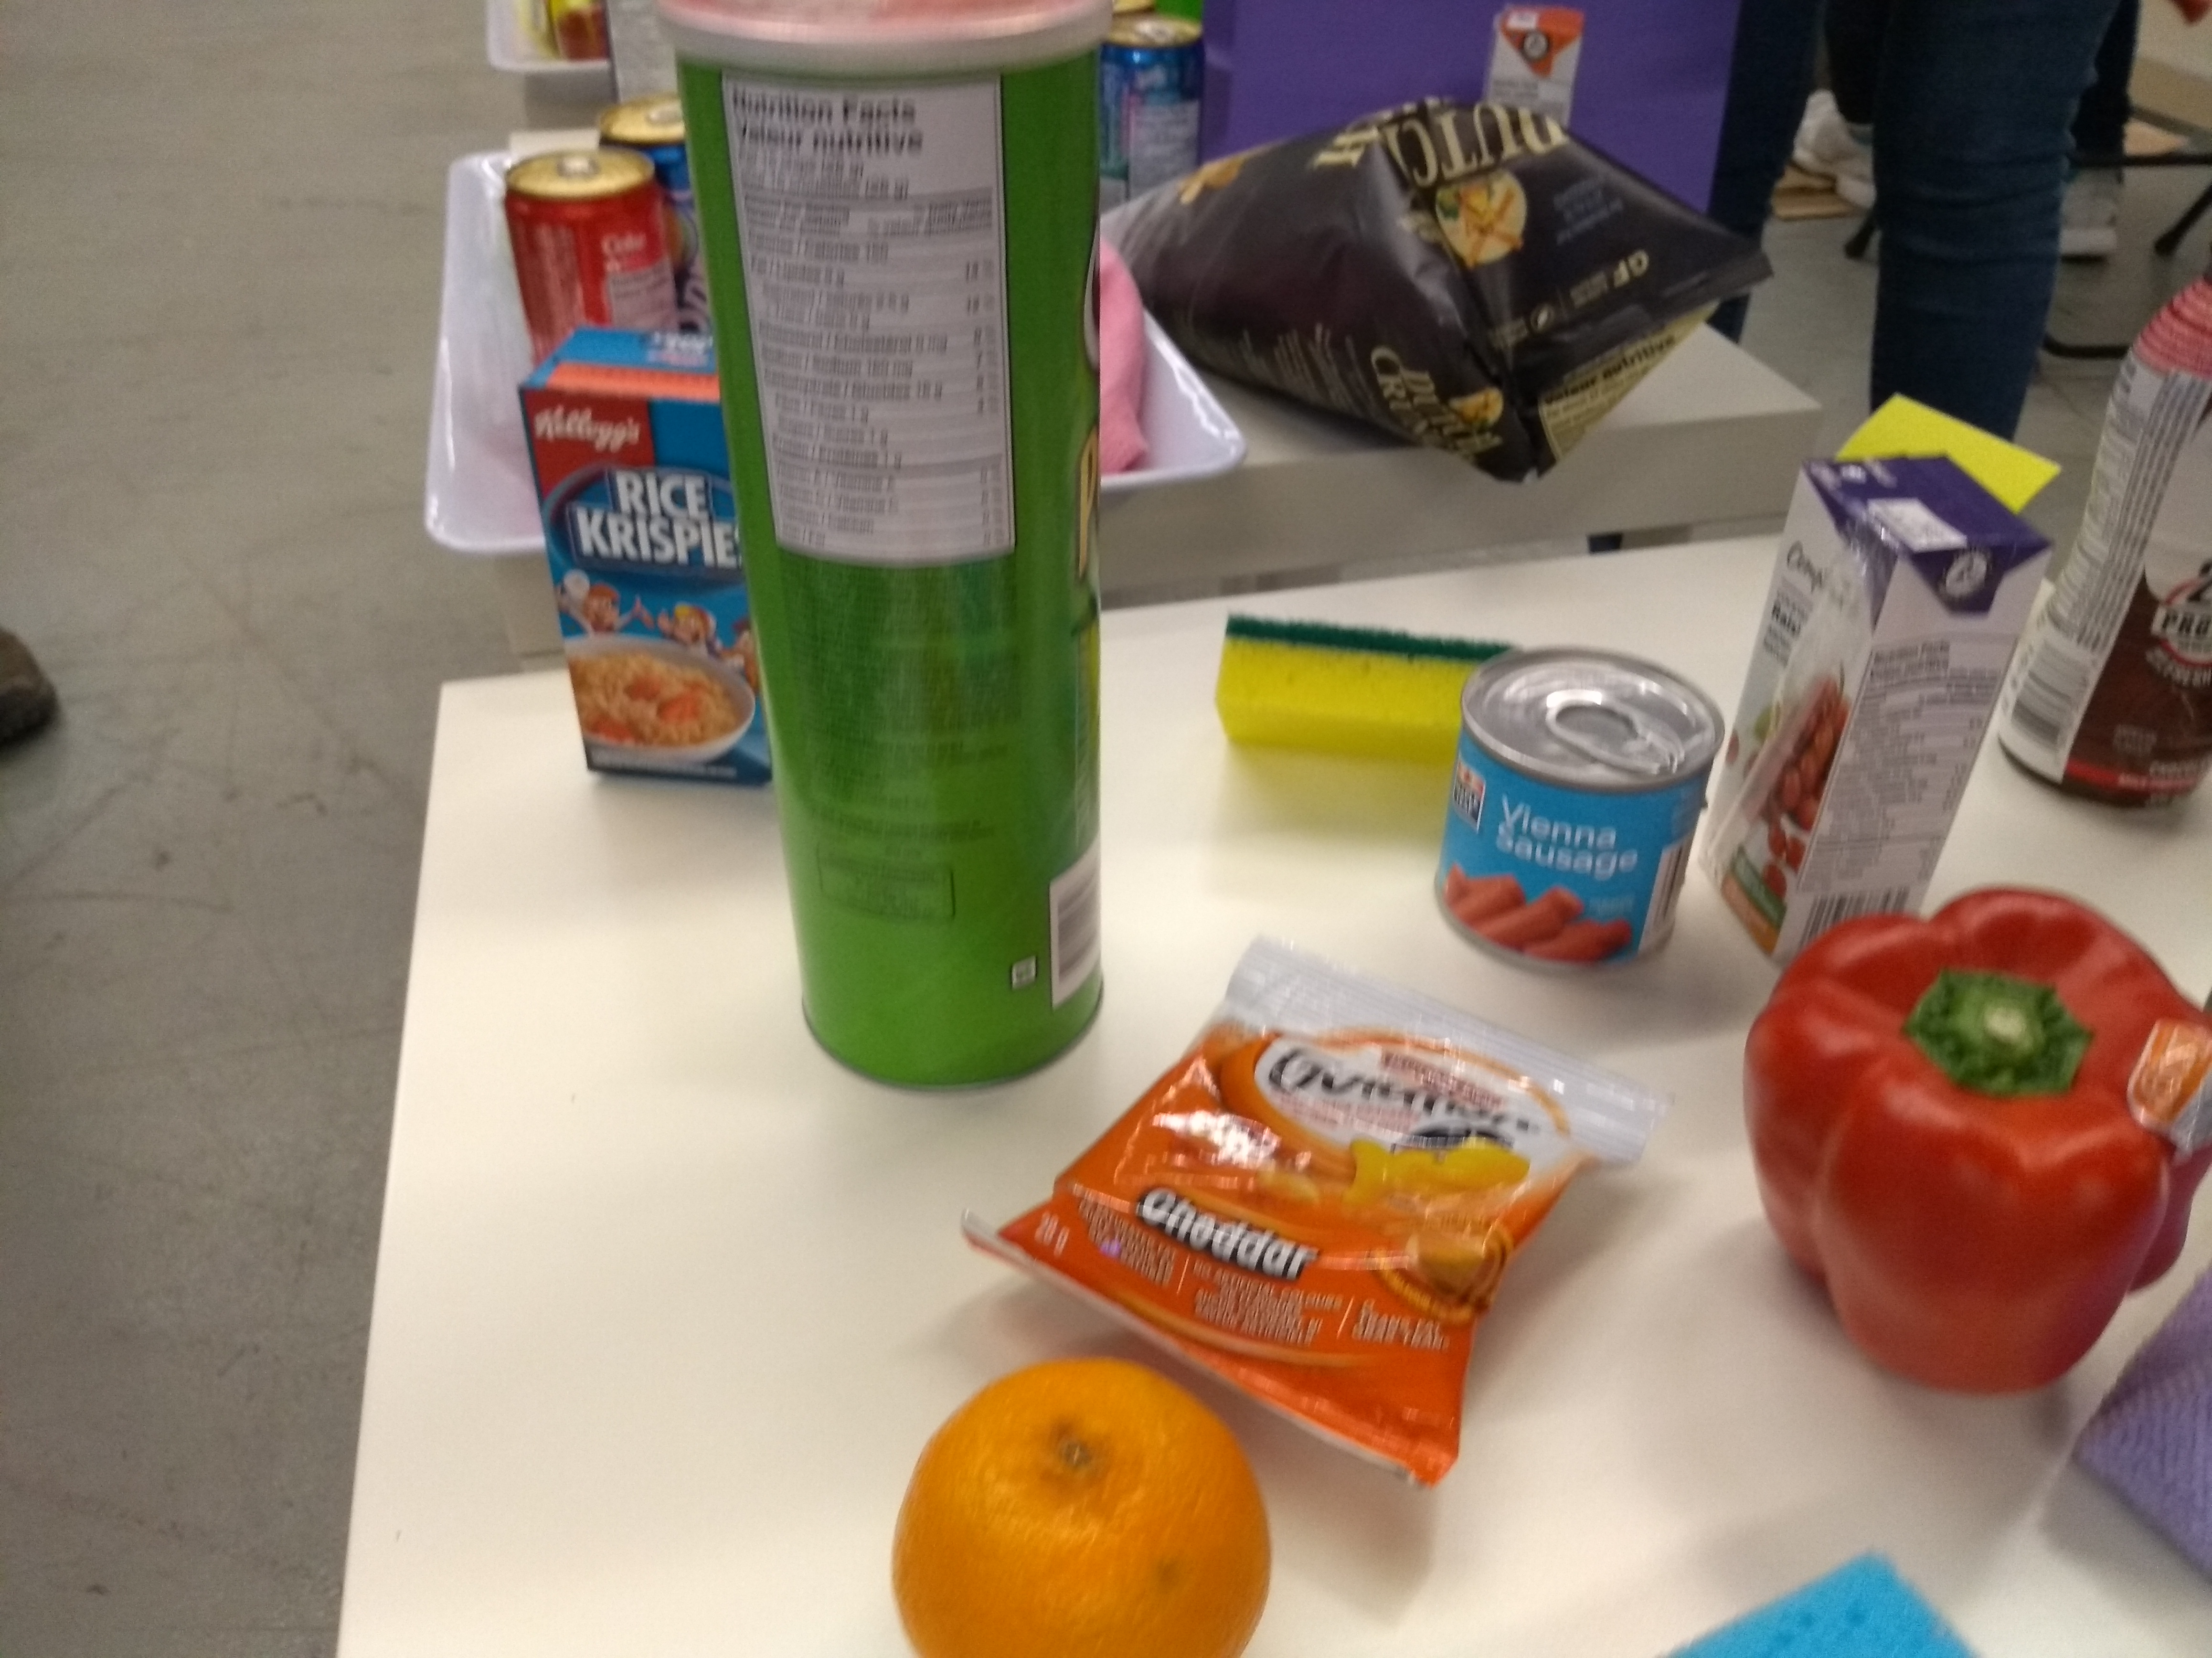cereal: (512, 324, 784, 792)
chocolate_drink: (2006, 275, 2212, 817)
coke: (500, 141, 688, 357)
crackers: (989, 986, 1679, 1397)
grape_juice: (1707, 451, 2047, 947)
orange: (876, 1348, 1301, 1655)
paprika: (1730, 885, 2212, 1400)
potato_chips: (1103, 94, 1773, 503)
pringles: (658, 0, 1120, 1109)
sausages: (1428, 639, 1731, 986)
scrubby: (1205, 606, 1493, 752)
